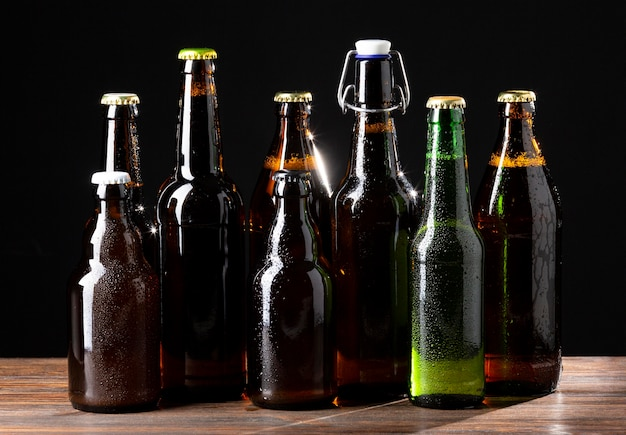alcohol: (331, 40, 428, 406), (153, 48, 252, 405), (406, 95, 494, 410), (478, 92, 560, 397), (66, 172, 163, 412), (249, 172, 339, 409), (257, 92, 352, 282), (80, 91, 159, 280)
